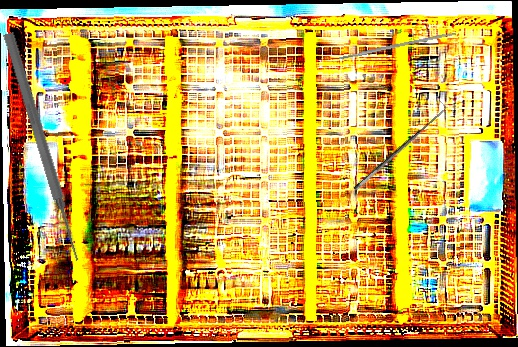Hook Surgical: (346, 99, 451, 193)
Pusher: (0, 31, 85, 263)
Scalpel Handle: (338, 30, 457, 61)
